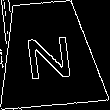N_N: (21, 27, 76, 81)
